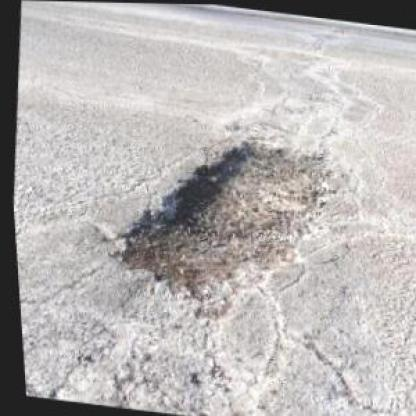pothole: (96, 118, 352, 329)
